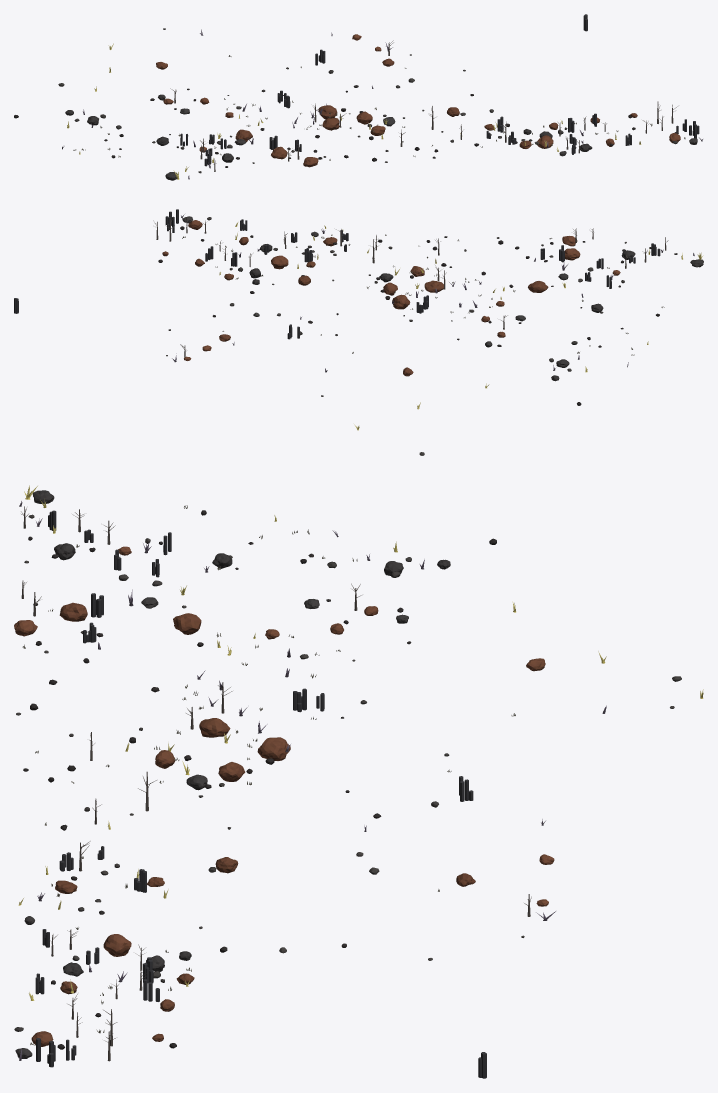
Rendered from ash_land_scatter_c18_27.glb.
The picture shows the model from 3 angles, top to bottom: view 1: azimuth 30°, elevation 25°; view 2: azimuth 150°, elevation 25°; view 3: azimuth 270°, elevation 25°; orthographic projection. The views are drawn at different scales.
Parts seen in each view (by area): view 1: ash_land_scatter_c18_27; view 2: ash_land_scatter_c18_27; view 3: ash_land_scatter_c18_27.
Boxes of the visible parts, left/top/right/bottom form: ash_land_scatter_c18_27: left=14, top=14, right=702, bottom=180; ash_land_scatter_c18_27: left=14, top=209, right=703, bottom=455; ash_land_scatter_c18_27: left=14, top=485, right=703, bottom=1078.
Bounding box in the file's own units: 229 × 40.23 × 146.
